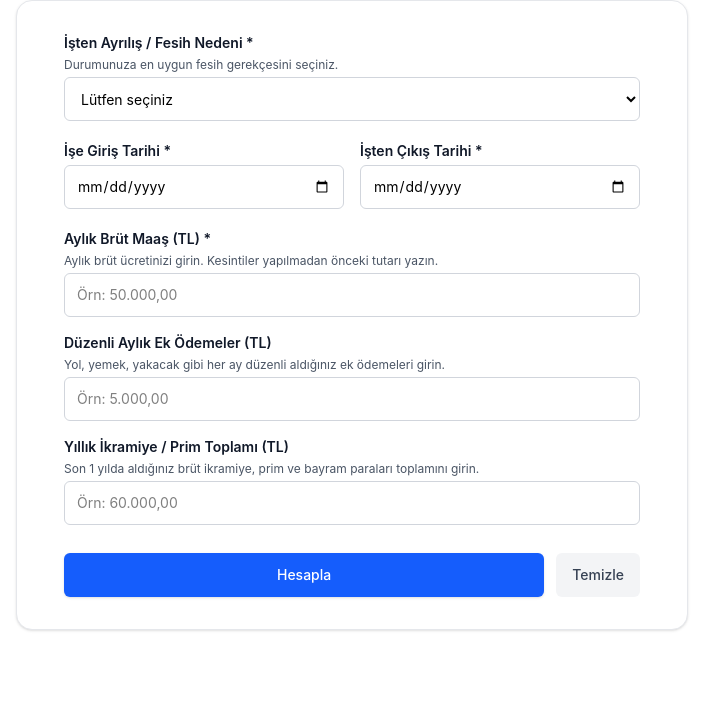
Scenario: A11y 8: CalculatorForm Hata Bildirimleri Canlı Duyurusu (role='alert') › form doğrulama hatası verdiğinde hata mesajları role='alert' taşımalı
Click the button "Hesapla" at (304, 575), box [64,553,544,597]
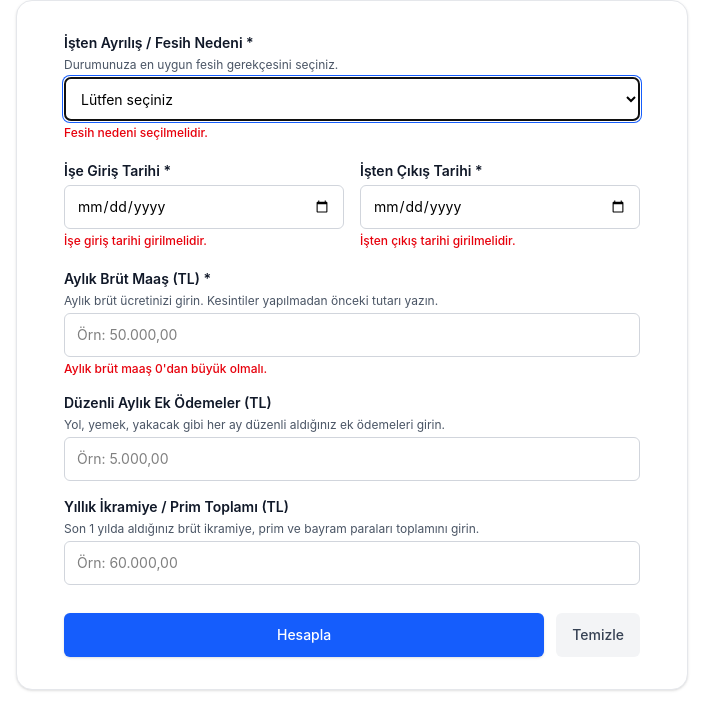
Check: the message "Fesih nedeni seçilmelidir." is shown, box [64,125,208,140]
